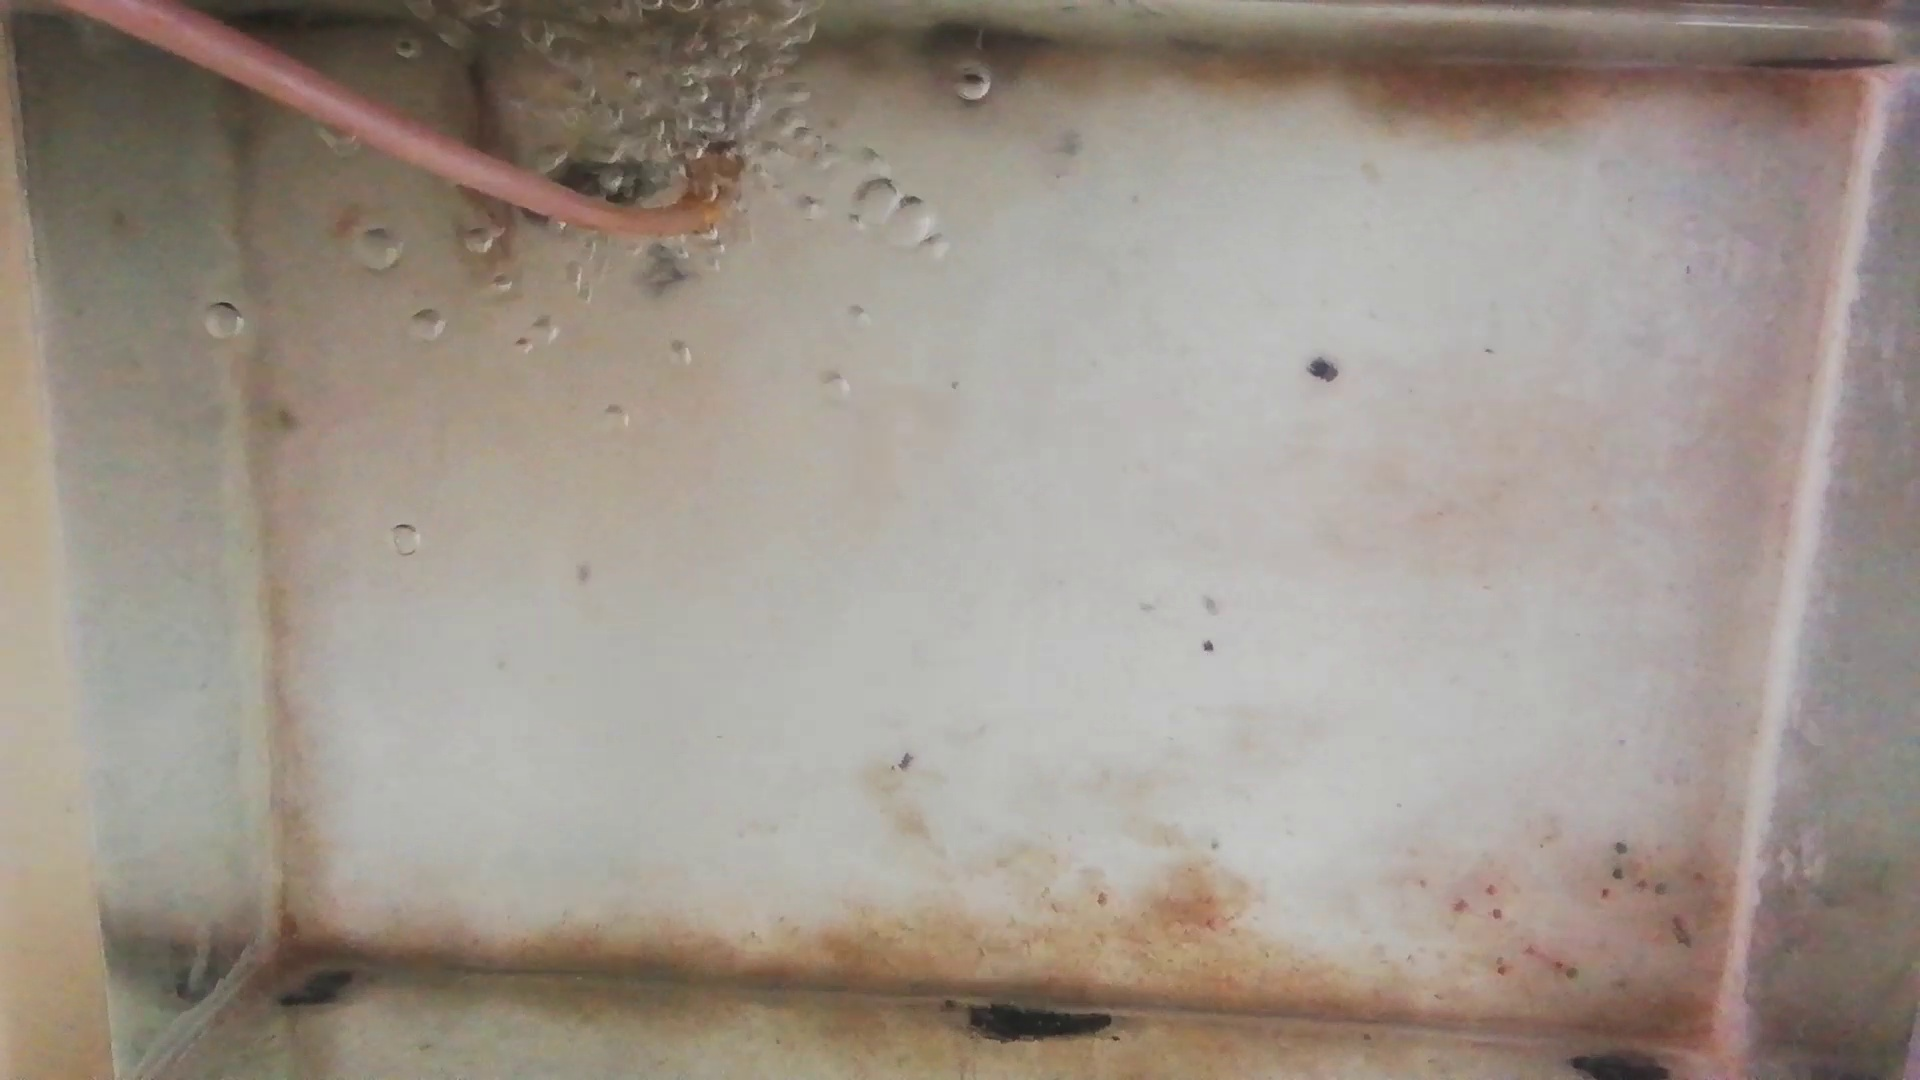fish: (444, 18, 510, 251), (543, 152, 674, 198)
